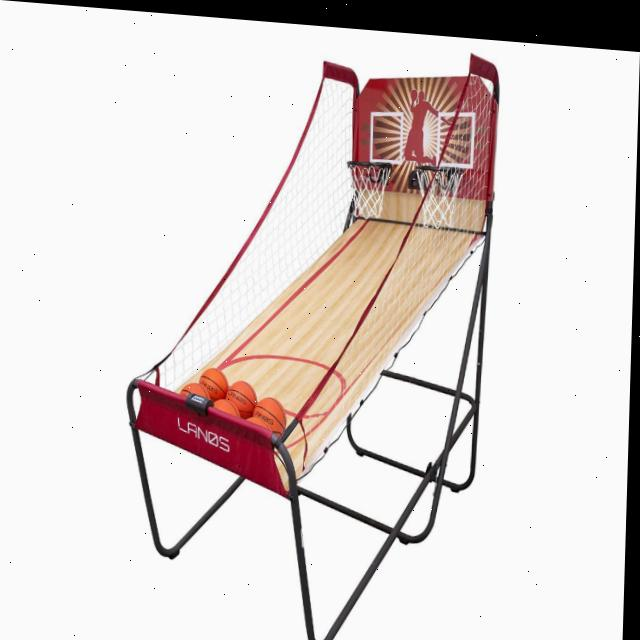basketball: (253, 397, 287, 439), (226, 379, 258, 420), (199, 368, 229, 403), (180, 382, 211, 400), (213, 398, 241, 417), (244, 416, 272, 434)
hoop: (414, 164, 460, 230), (345, 159, 392, 221)
